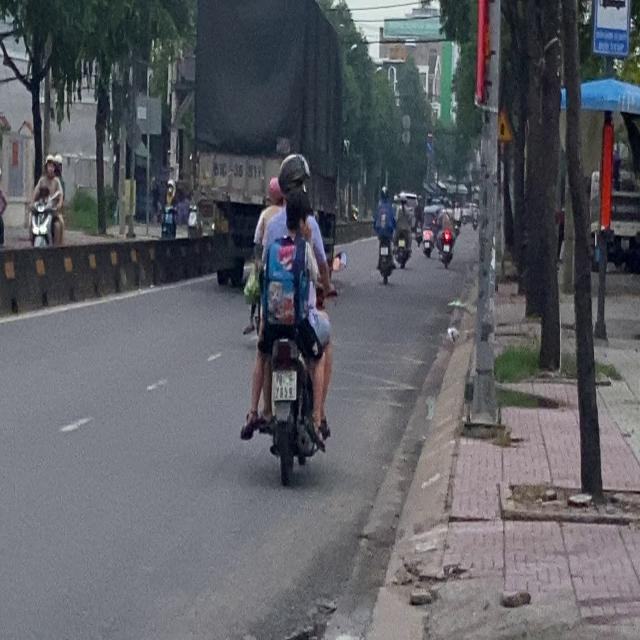helmet: (277, 151, 310, 199)
licenseplate: (240, 149, 336, 486)
motorcyclist: (282, 187, 310, 232)
nohelmet: (272, 370, 296, 399)
